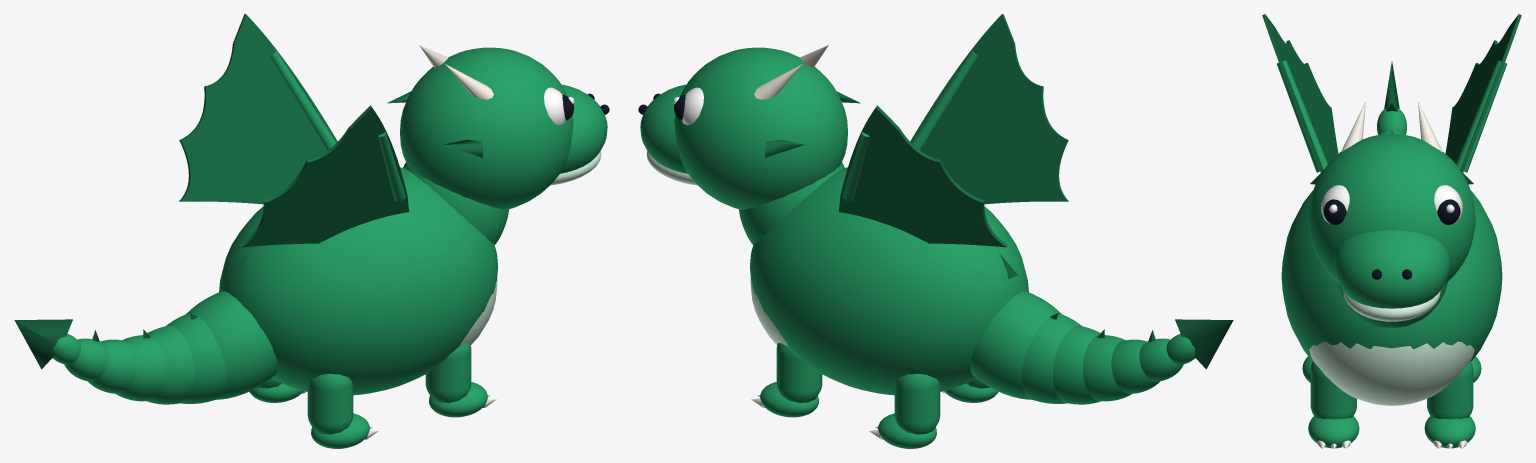
The model's file is dragon-green.glb.
3 renders of one model, left to right at view 1: azimuth 30°, elevation 25°; view 2: azimuth 150°, elevation 25°; view 3: azimuth 270°, elevation 25°, orthographic.
Visible parts, largest first — view 1: dragon-green, object 9, object 11, object 12, object 14, object 18, object 15, object 17, object 6; view 2: dragon-green, object 9, object 11, object 12, object 14, object 18, object 15, object 17, object 3; view 3: dragon-green, object 2, object 17, object 3, object 6, object 18, object 4, object 7.
Part boxes in pixels (x1,y1,x2,y2): dragon-green: (179,14,609,448); object 9: (166,313,226,403); object 11: (147,326,195,404); object 12: (115,335,164,401); object 14: (88,339,136,393); object 18: (14,319,72,369); object 15: (64,338,108,381); object 17: (52,334,81,364); object 6: (544,87,565,125); dragon-green: (638,14,1068,448); object 9: (1021,313,1081,403); object 11: (1052,326,1100,404); object 12: (1083,335,1132,401); object 14: (1111,339,1159,393); object 18: (1175,319,1233,369); object 15: (1139,338,1183,381); object 17: (1166,334,1195,364); object 3: (682,87,703,125); dragon-green: (1262,14,1521,448); object 2: (1343,290,1440,321); object 17: (1377,108,1406,134); object 3: (1434,185,1462,223); object 6: (1321,185,1349,223); object 18: (1384,61,1399,111); object 4: (1437,199,1460,224); object 7: (1323,199,1346,224).
Size of the model in its own units: 5.93 by 3.5 by 2.23.
